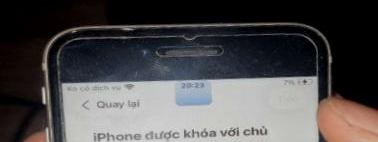scratch: (60, 14, 259, 42), (41, 49, 112, 80), (44, 92, 71, 142), (134, 55, 186, 80)
